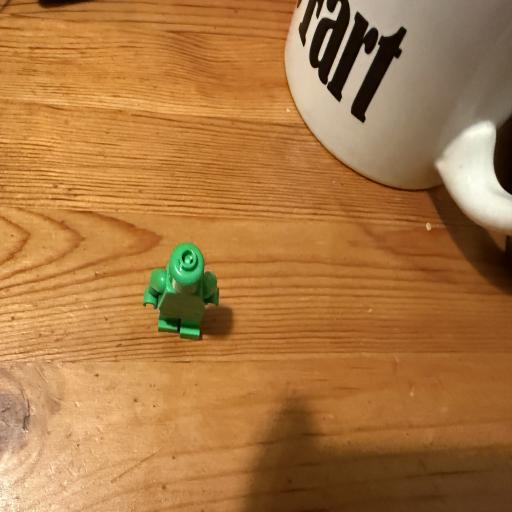Minifig: (143, 243, 219, 339)
